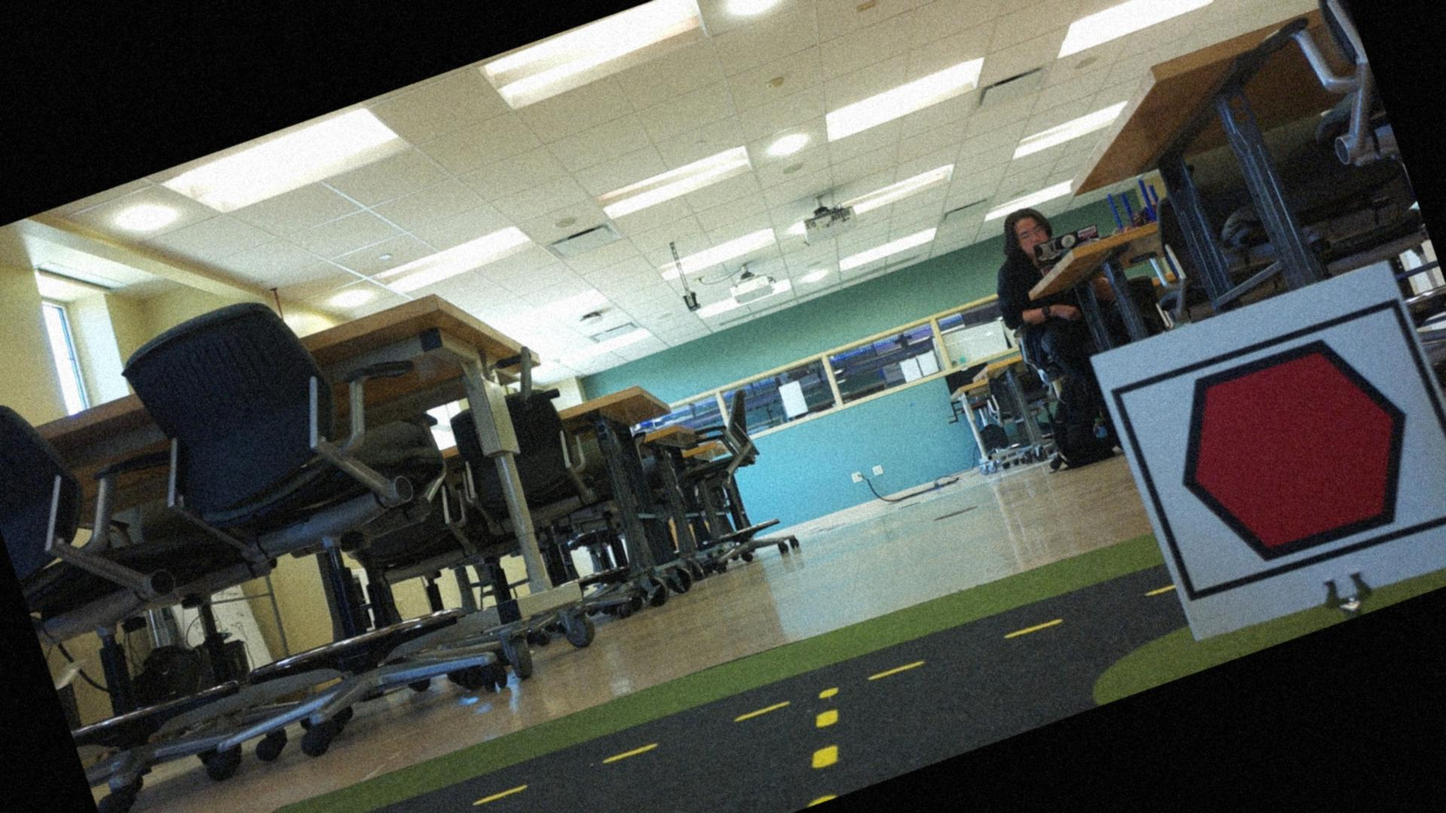stop: (1129, 303, 1445, 599)
yellowline: (792, 685, 860, 777)
